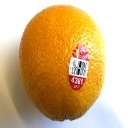orange: (17, 3, 106, 122)
